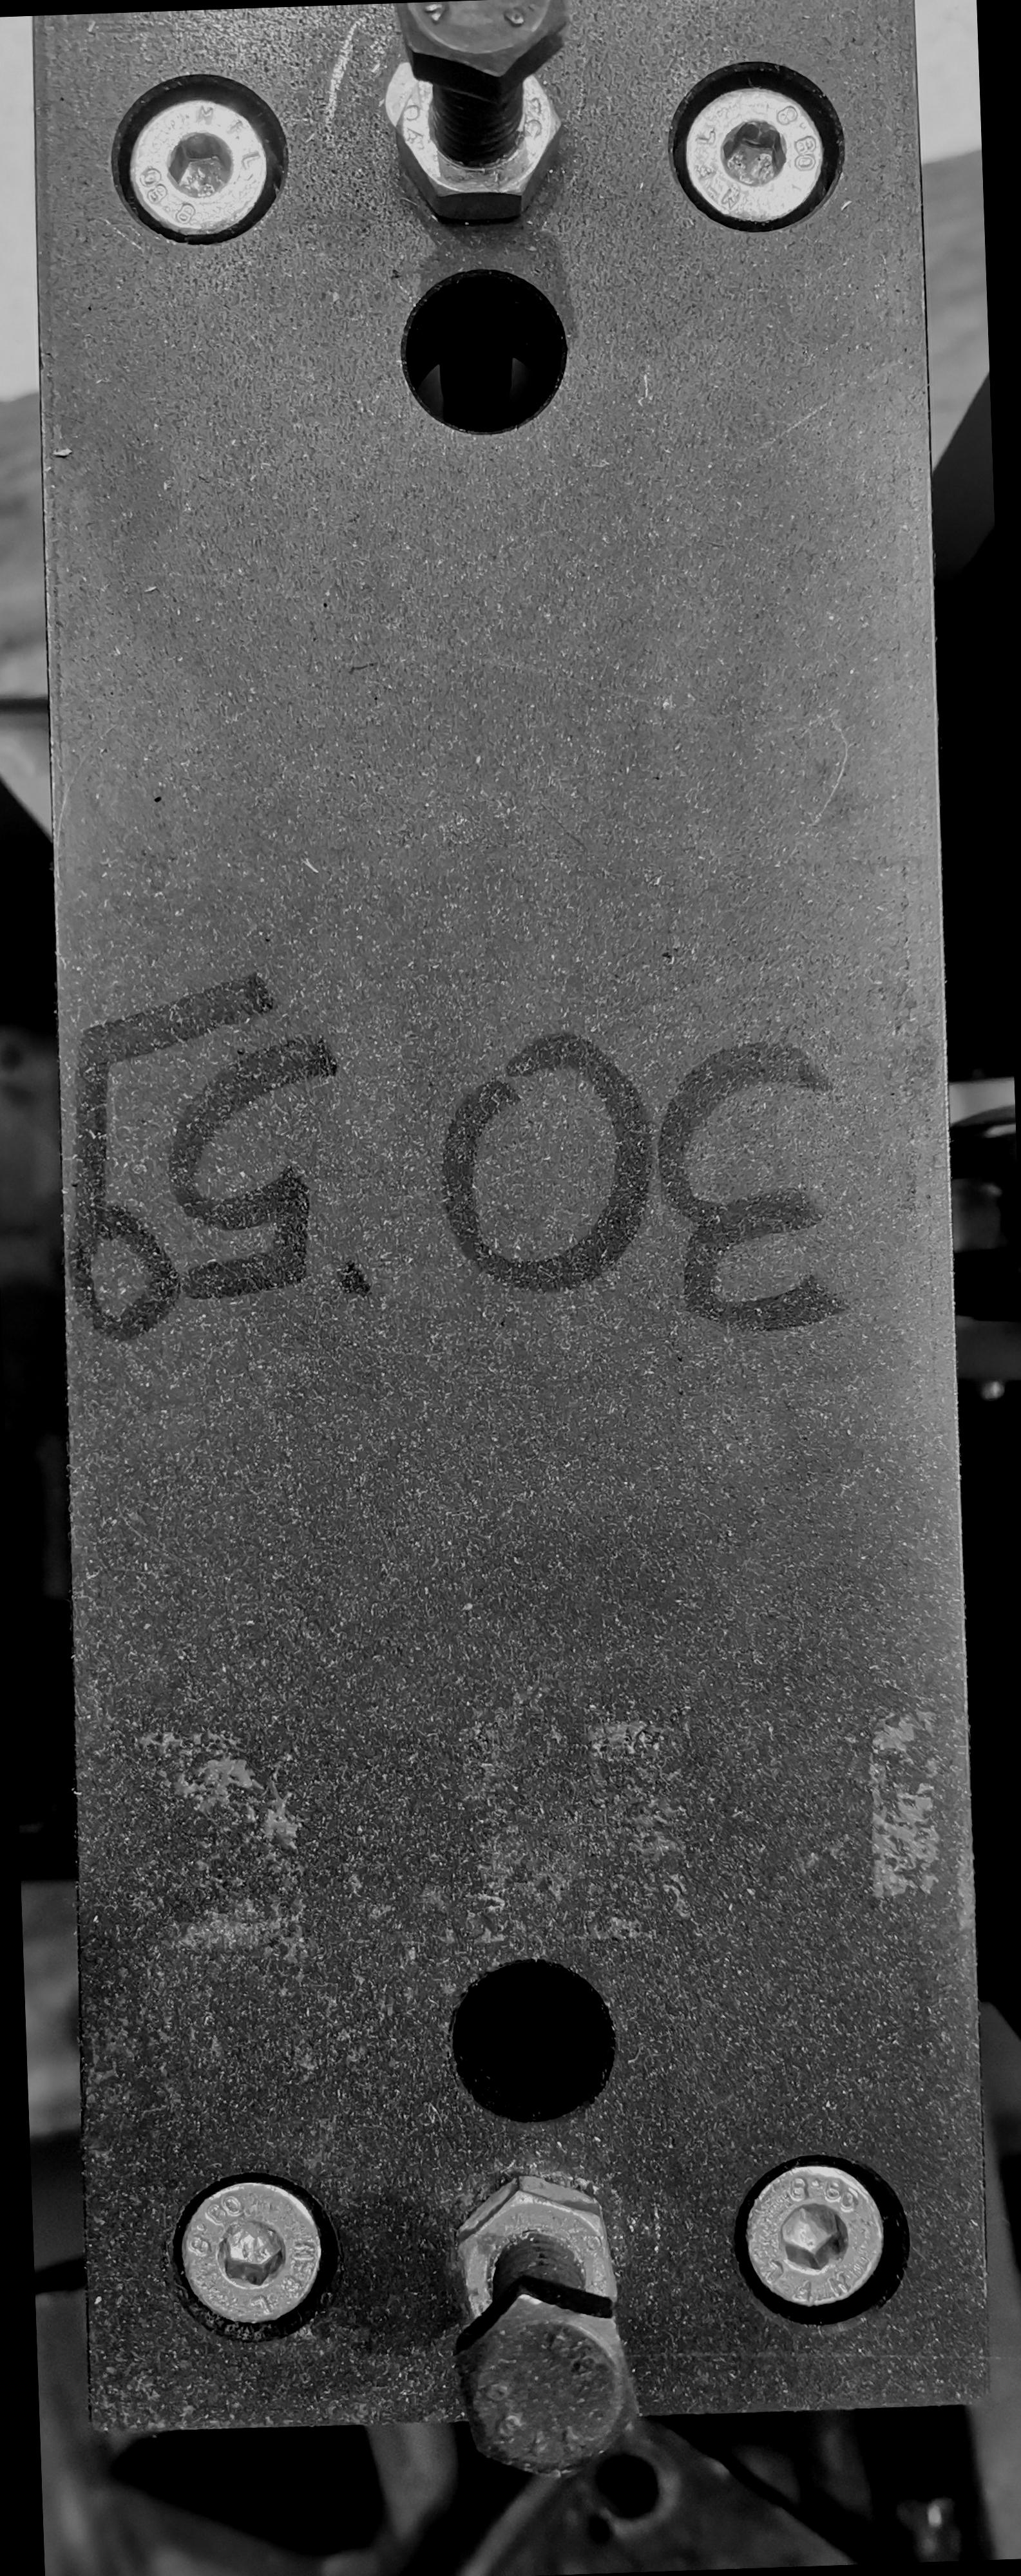allen: (888, 2343, 995, 2449), (600, 2354, 697, 2458), (571, 1283, 672, 1380), (863, 1270, 962, 1367)
hexagonal: (743, 2410, 860, 2528)
